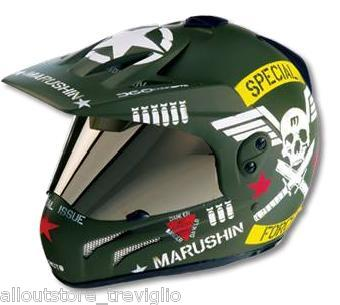helmet: (27, 19, 320, 265)
